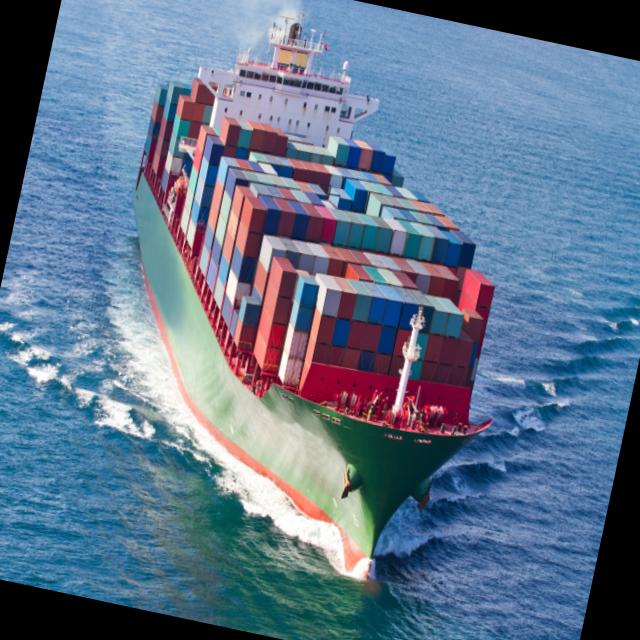boat: (47, 0, 571, 629)
